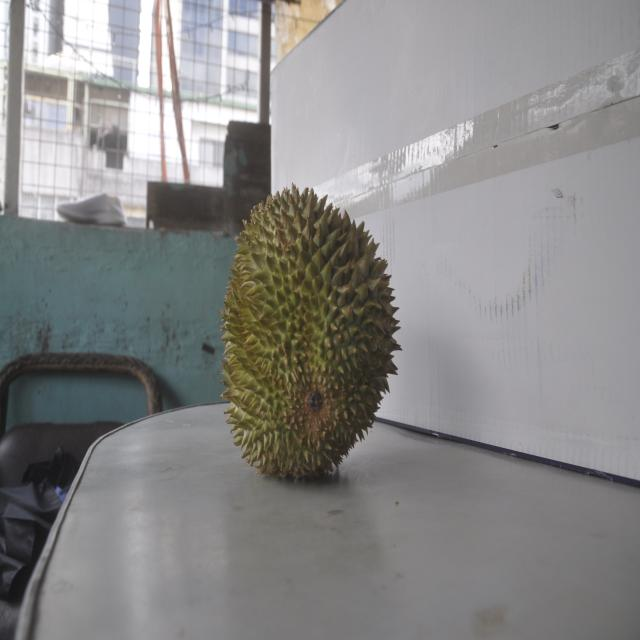mature: (220, 182, 396, 478)
